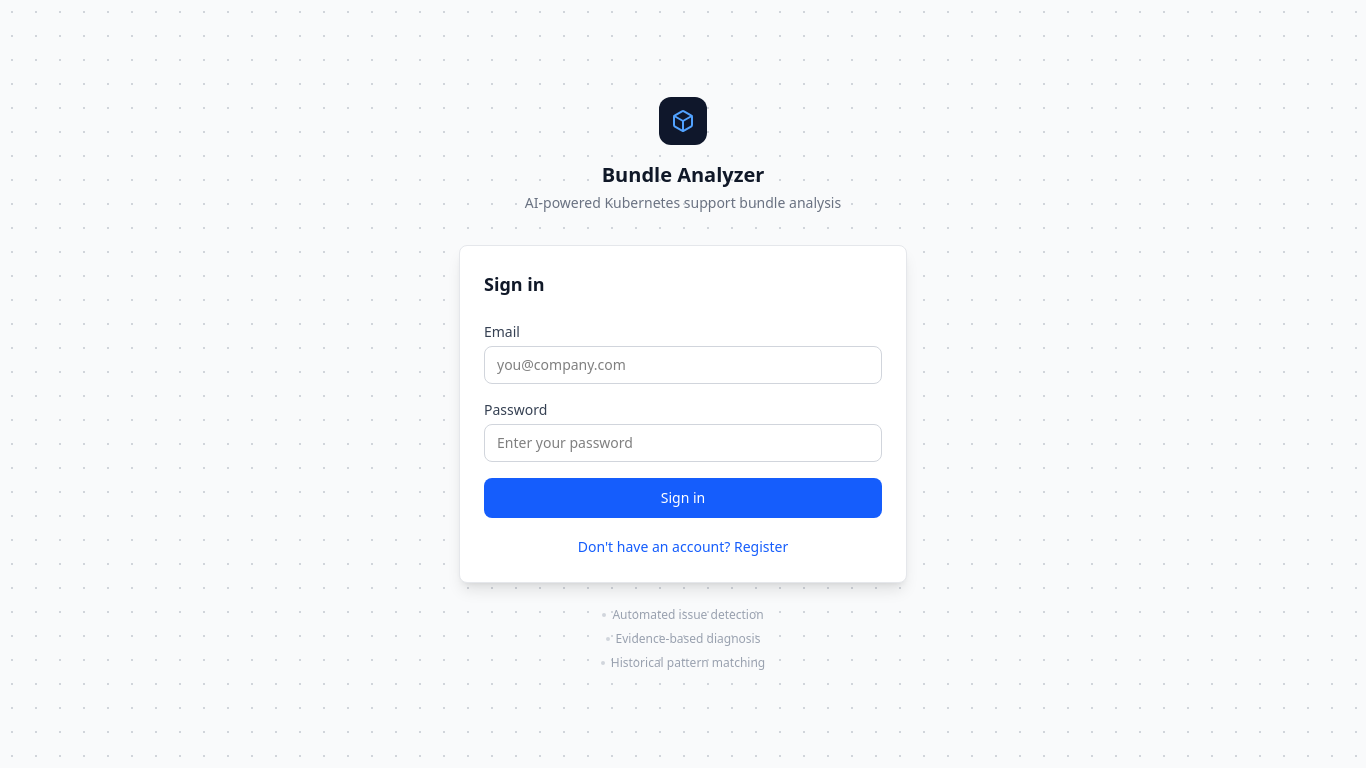
Scenario: LoginPage › toggles between login and register modes
Expected: the heading "Sign in" is shown, [484,272,545,296]
What coordinates should you click on to do the following:
click the button "Don't have an account? Register"
I would click on:
 (683, 547)
Its box is [578,537,788,557].
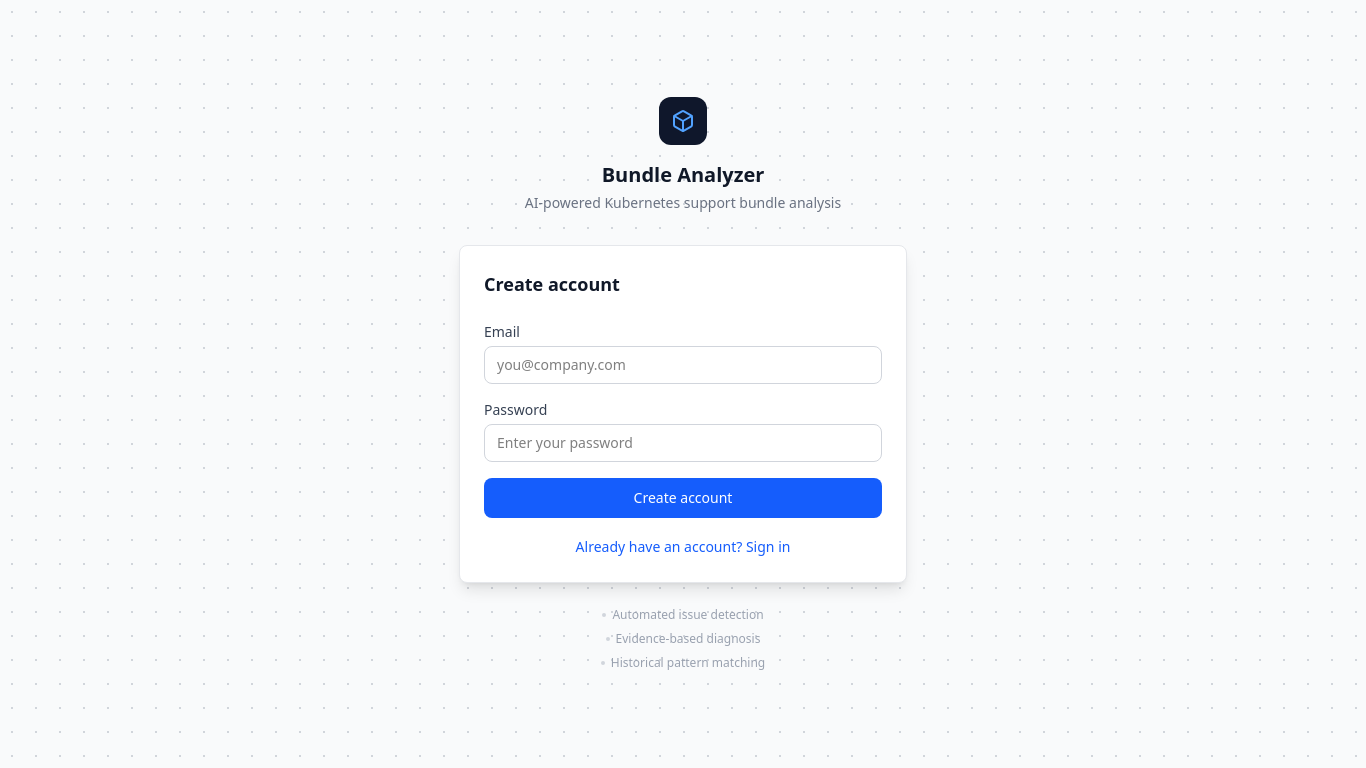
Now the heading "Create account" is shown, box [484,272,620,296]
What coordinates should you click on to do the following:
click the button "Already have an account? Sign in"
I would click on:
 (683, 547)
Its box is [576,537,790,557].
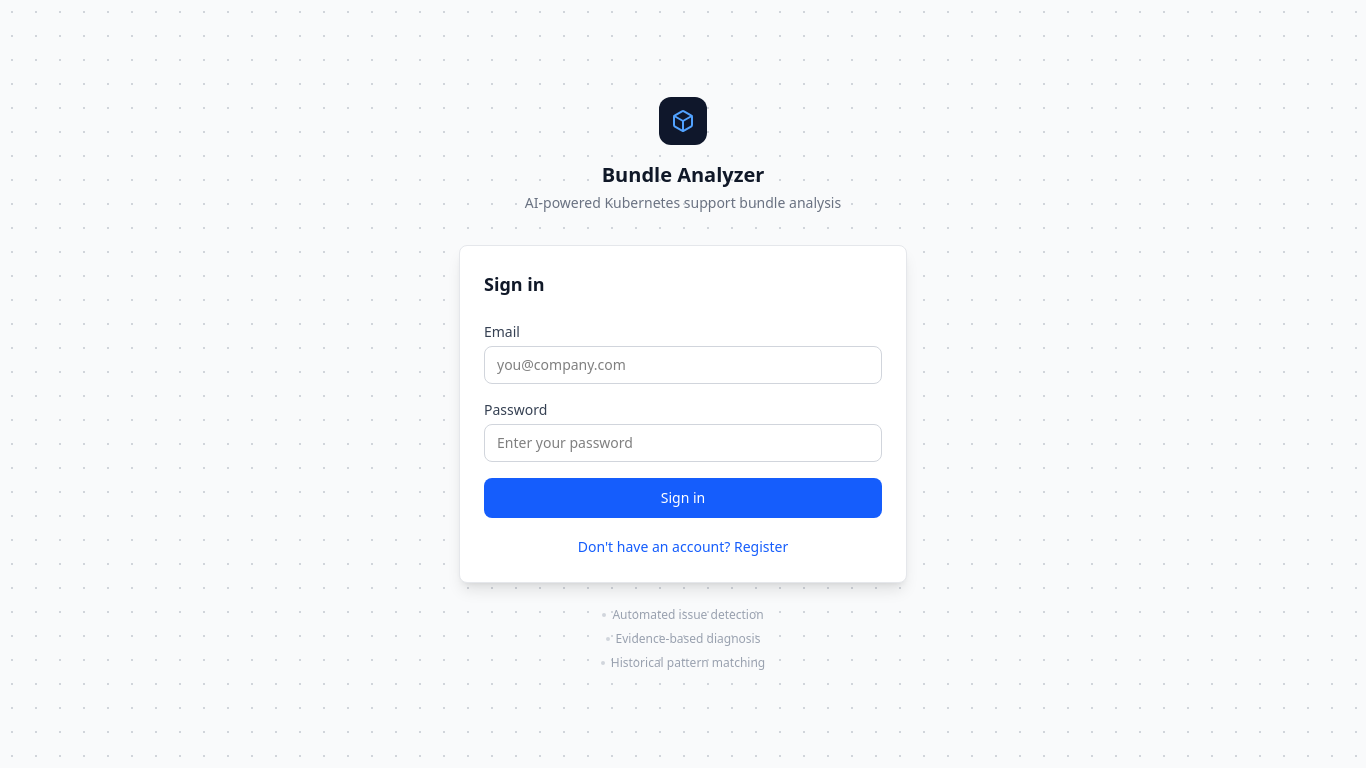
Now the heading "Sign in" is shown, box [484,272,545,296]
